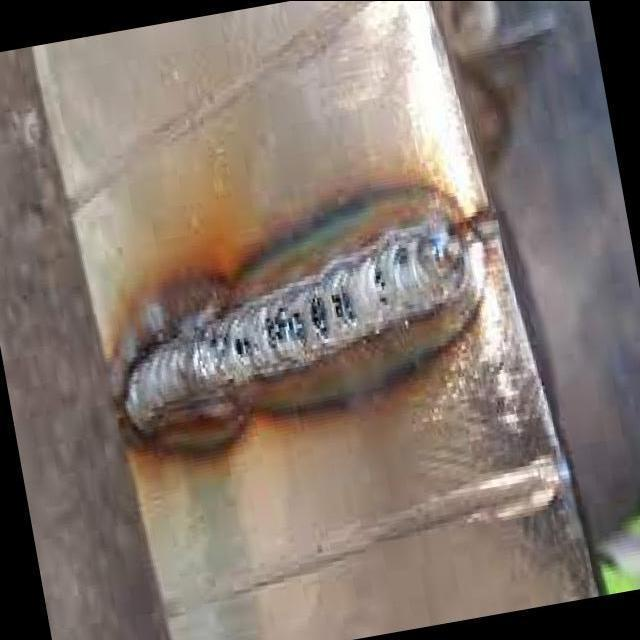defect: (260, 298, 314, 355), (303, 288, 332, 342), (326, 289, 359, 330), (368, 265, 390, 305), (231, 332, 254, 368)
